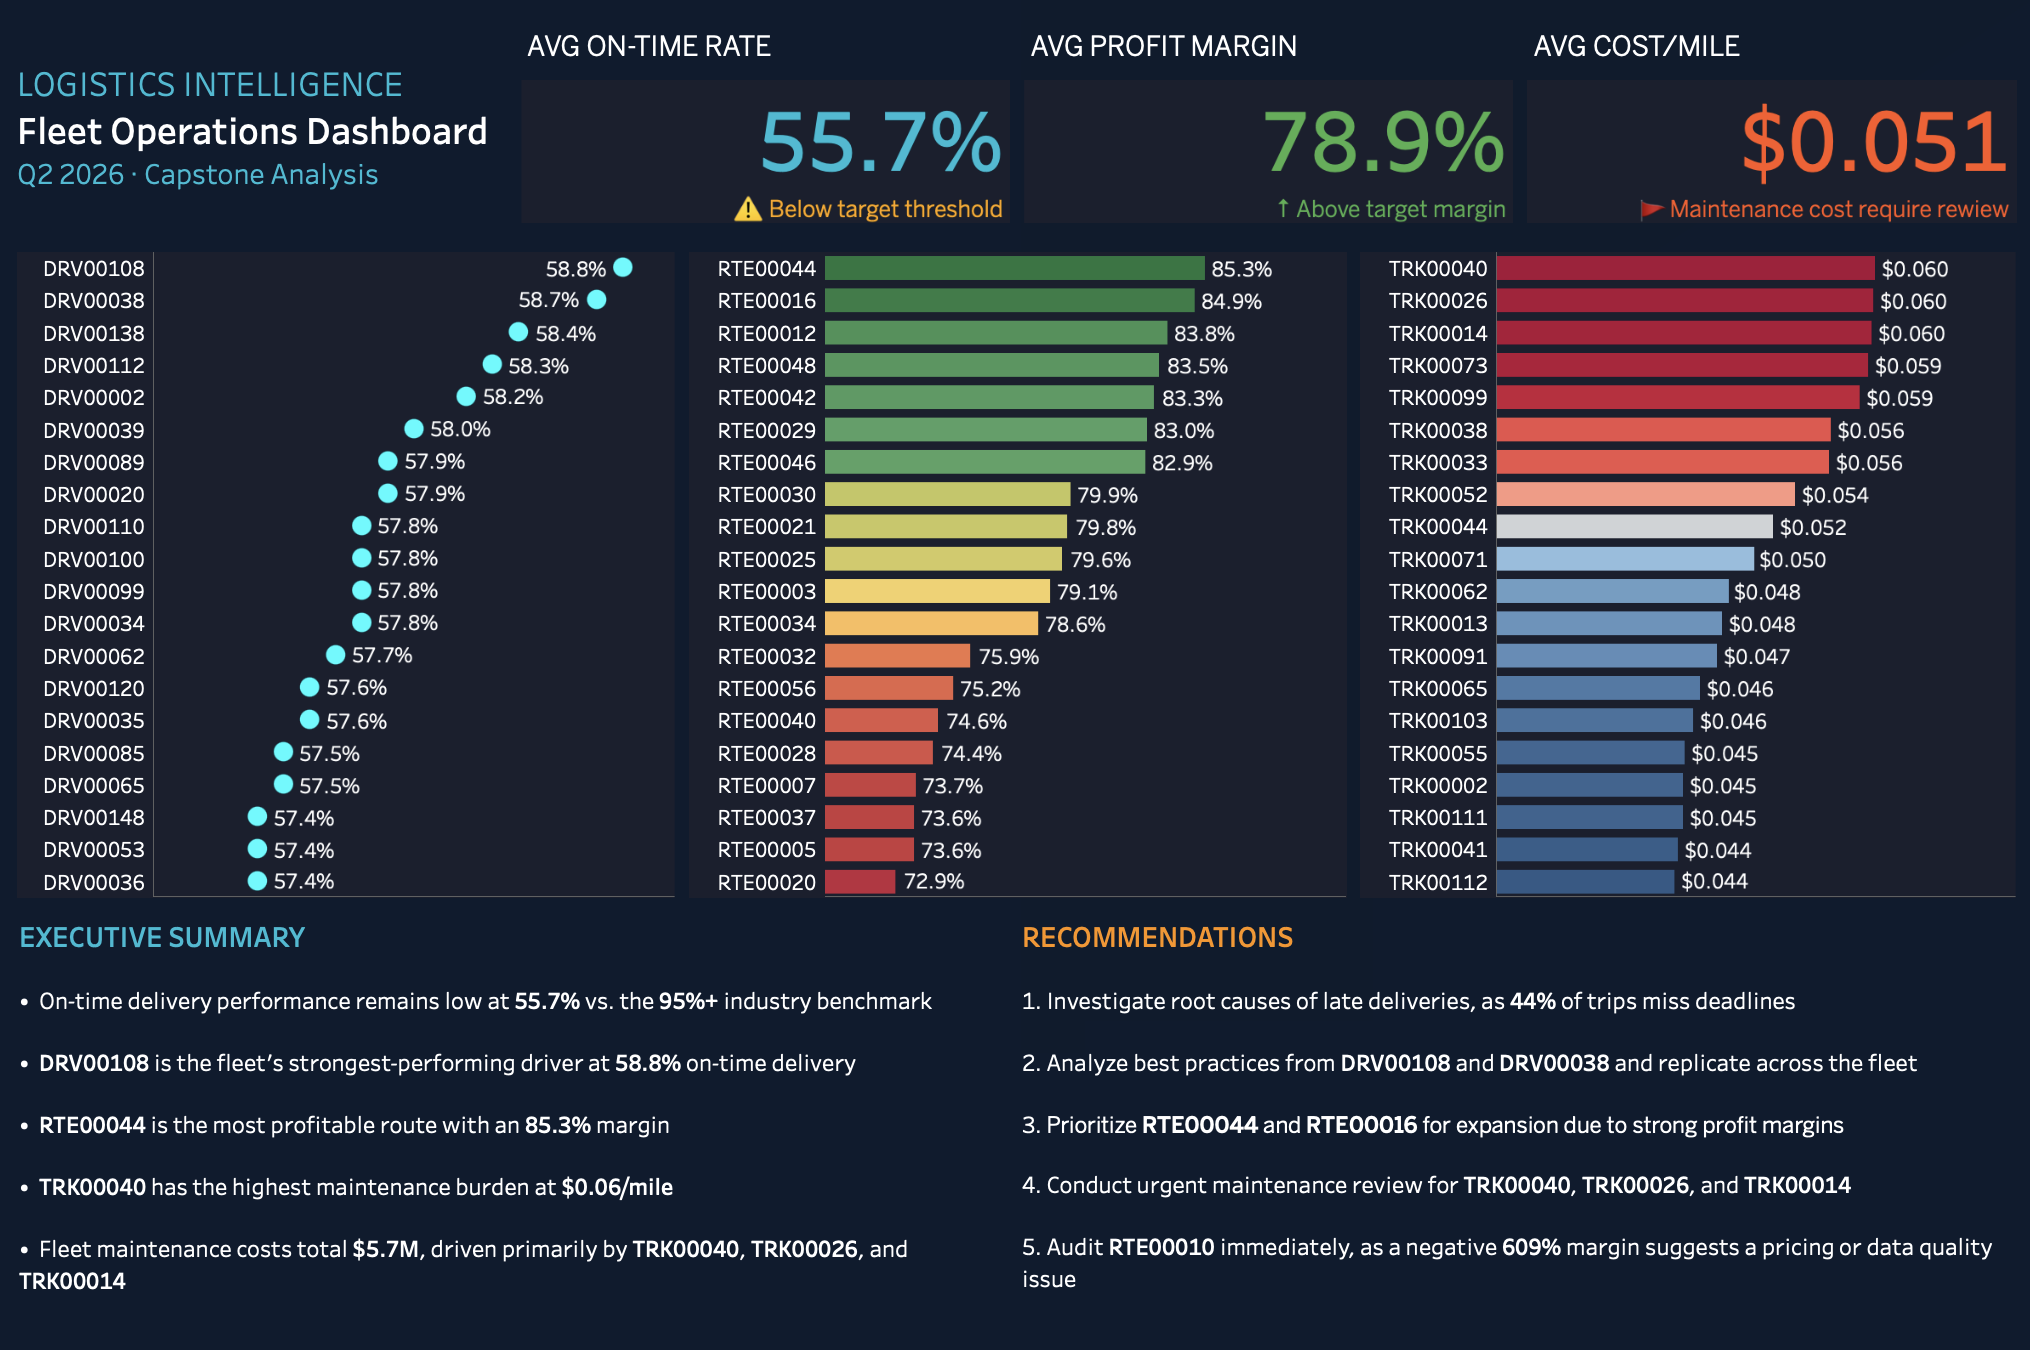

Layout of this report page (visuals, bound fields, positions):
{"tool":"tableau","page":{"name":"Logistics Operations Dashboard","canvas":[1200,800],"ordinal":0},"visuals":[{"type":"text","box":[8,8,296,138]},{"type":"worksheet","title":"KPI - On Time Rate","mark":"Text","box":[304,8,296,138]},{"type":"worksheet","title":"KPI - Profit Margin","mark":"Text","box":[600,8,296,138]},{"type":"worksheet","title":"KPI - Cost Per Mile","mark":"Text","box":[896,8,296,138]},{"type":"worksheet","title":"Driver On-Time Rate","mark":"Circle","rows":["driver_id"],"cols":["on_time_rate"],"box":[8,146,395,646]},{"type":"worksheet","title":"Route Profitability","mark":"Automatic","rows":["route_id"],"cols":["profit_margin"],"box":[403,146,395,646]},{"type":"worksheet","title":"Fleet Health","mark":"Automatic","rows":["truck_id"],"cols":["cost_per_mile"],"box":[798,146,394,646]},{"type":"text","box":[9,529,590,250]},{"type":"text","box":[599,529,589,250]}]}

Visuals, with their boxes in screenshot pixels (x1, y1, x2, y2), scaled from the page's 1200x800 canvas onto the 2030x1350 screenshot:
text: x1=14 y1=14 x2=514 y2=246
"KPI - On Time Rate" worksheet (Text marks): x1=514 y1=14 x2=1015 y2=246
"KPI - Profit Margin" worksheet (Text marks): x1=1015 y1=14 x2=1516 y2=246
"KPI - Cost Per Mile" worksheet (Text marks): x1=1516 y1=14 x2=2016 y2=246
"Driver On-Time Rate" worksheet (Circle marks): x1=14 y1=246 x2=682 y2=1336
"Route Profitability" worksheet: x1=682 y1=246 x2=1350 y2=1336
"Fleet Health" worksheet: x1=1350 y1=246 x2=2016 y2=1336
text: x1=15 y1=893 x2=1013 y2=1315
text: x1=1013 y1=893 x2=2010 y2=1315
